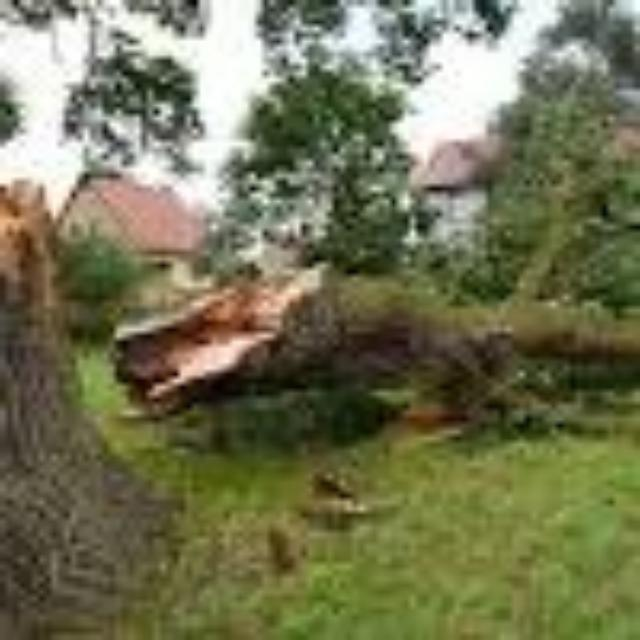fallen_tree: (160, 114, 639, 422)
